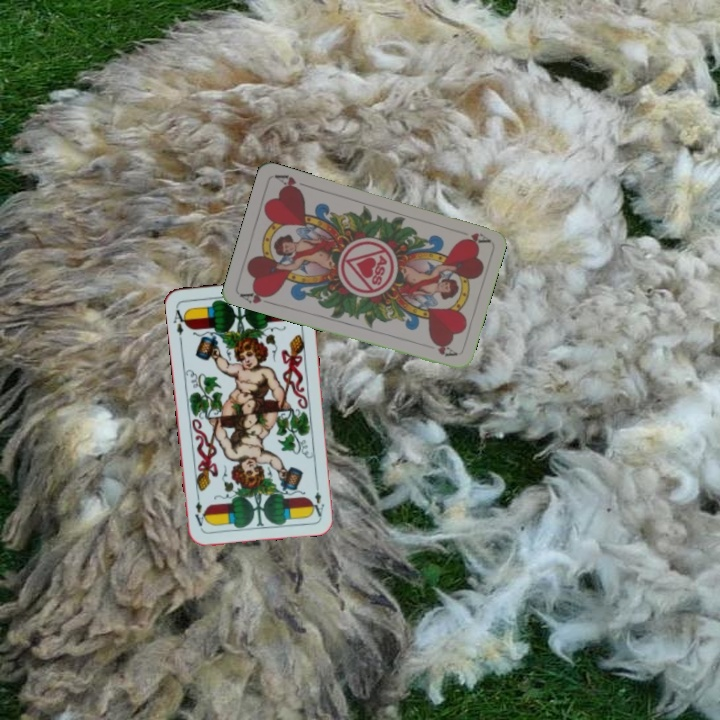EA: (169, 303, 190, 338), (309, 479, 326, 519)
HA: (236, 286, 276, 307), (458, 229, 492, 247)
